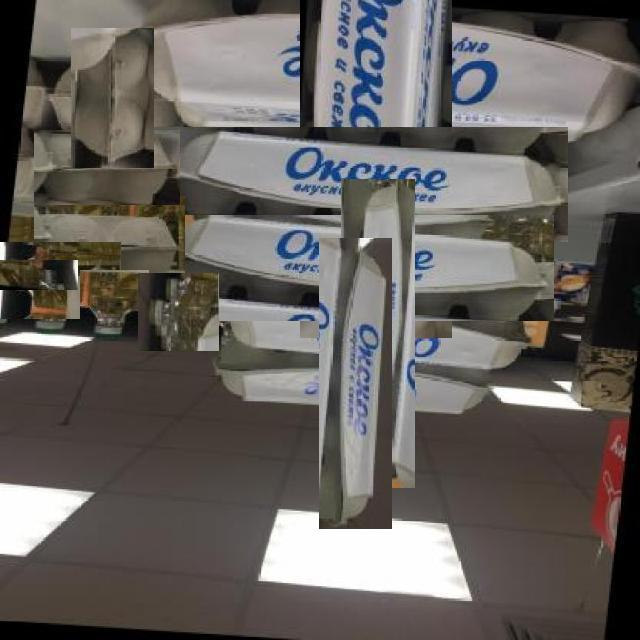Egg: (300, 0, 452, 338), (153, 126, 568, 242), (161, 214, 554, 321), (340, 180, 415, 488), (319, 238, 392, 529), (34, 196, 185, 291), (71, 28, 154, 168), (33, 129, 180, 205), (0, 242, 121, 319), (138, 274, 219, 351), (81, 270, 149, 347), (0, 260, 78, 290)
